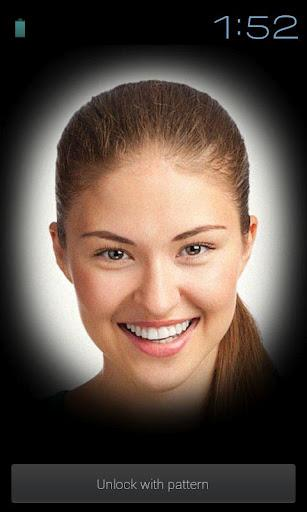no_mask: (82, 132, 236, 379)
